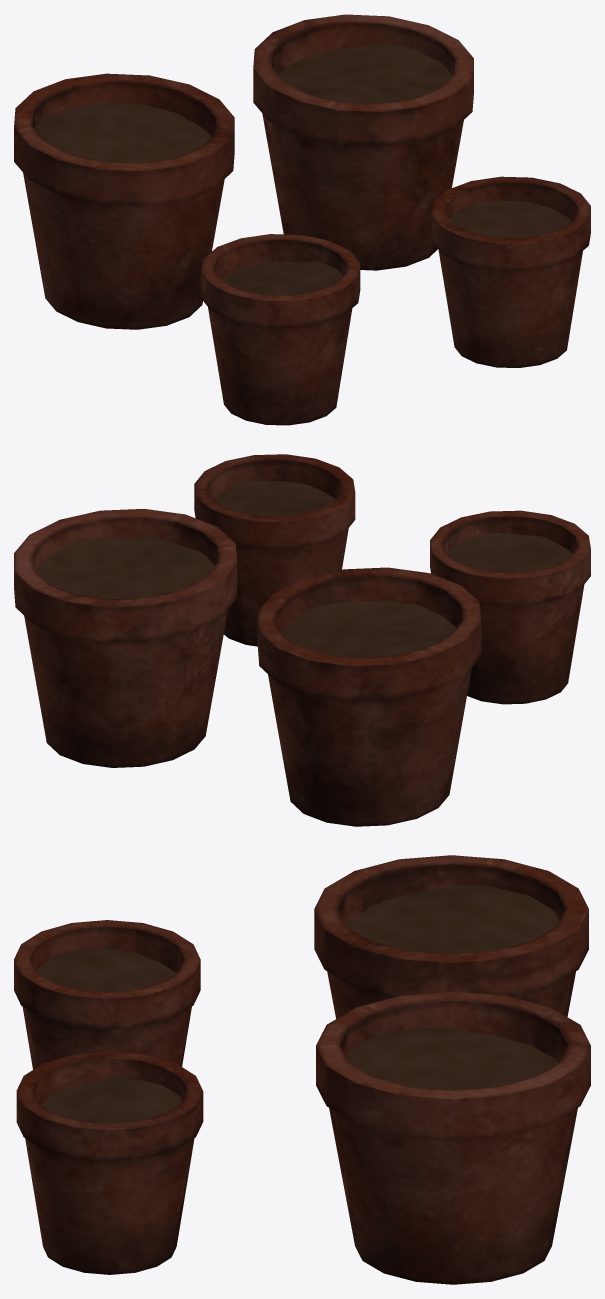
The model's file is potted_row.glb.
The picture shows the model from 3 angles, top to bottom: view 1: azimuth 30°, elevation 25°; view 2: azimuth 150°, elevation 25°; view 3: azimuth 270°, elevation 25°; orthographic projection. The views are drawn at different scales.
Parts seen in each view (by area): view 1: mesh; view 2: mesh; view 3: mesh.
Part boxes in pixels (<box>): mesh: <box>14,14,590,425</box>; mesh: <box>14,454,590,826</box>; mesh: <box>14,855,590,1284</box>.
Bounding box in the file's own units: 2.72 × 1.05 × 2.72.
1 material, 1 textured.
